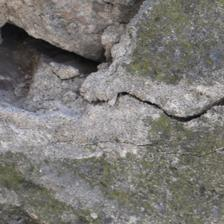Crack: (124, 73, 168, 132), (80, 33, 144, 73)
